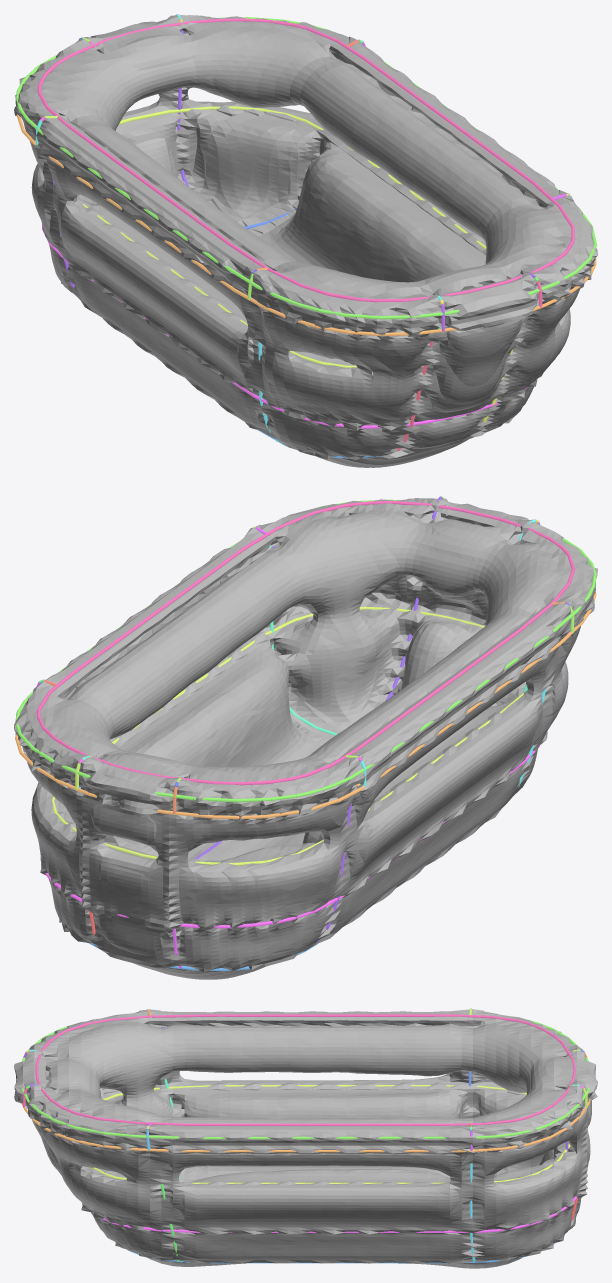
The model's file is flowrep_bathtub.gltf.
3 renders of one model, top to bottom at view 1: azimuth 30°, elevation 25°; view 2: azimuth 150°, elevation 25°; view 3: azimuth 270°, elevation 25°, orthographic. The views are drawn at different scales.
Size of the model in its own units: 0.4499 by 0.3138 by 0.8806.
